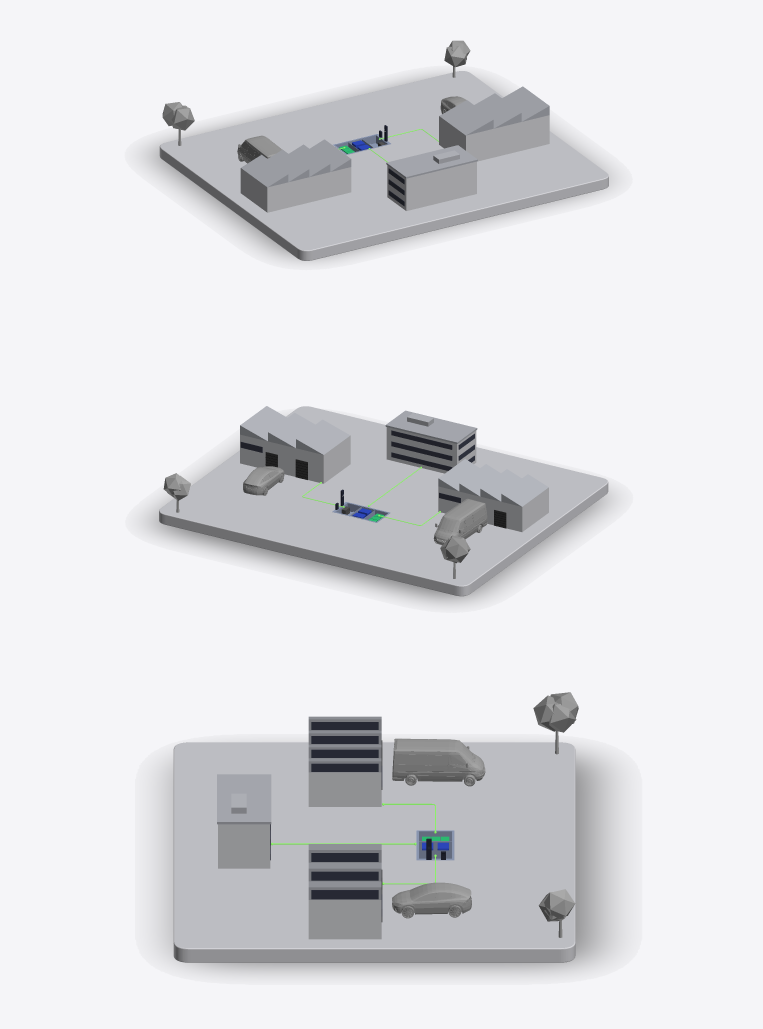
The model's file is sett-scroll-voordeel-delen.glb.
3 renders of one model, top to bottom at view 1: azimuth 30°, elevation 25°; view 2: azimuth 150°, elevation 25°; view 3: azimuth 270°, elevation 25°, orthographic. The views are drawn at different scales.
Parts seen in each view (by area): view 1: object 37, building (×3), contact_shadow, van; view 2: object 37, building (×3), contact_shadow, van, car; view 3: object 37, building (×3), contact_shadow, van, car, object 60.
Boxes of the visible parts, x1,y1,x2,y2 form: object 37: [159, 71, 608, 260]; building (×3): [240, 86, 549, 212]; contact_shadow: [149, 76, 603, 258]; van: [237, 135, 282, 163]; object 37: [159, 406, 608, 596]; building (×3): [240, 406, 548, 531]; contact_shadow: [150, 448, 608, 602]; van: [433, 498, 487, 545]; car: [243, 466, 284, 495]; object 37: [173, 742, 575, 962]; building (×3): [217, 716, 382, 939]; contact_shadow: [166, 752, 610, 971]; van: [392, 738, 485, 786]; car: [392, 882, 471, 918]; object 60: [544, 889, 575, 918].
Size of the model in its own units: 4228 by 457 by 4228.
Materials: 22 (1 with a texture image).
